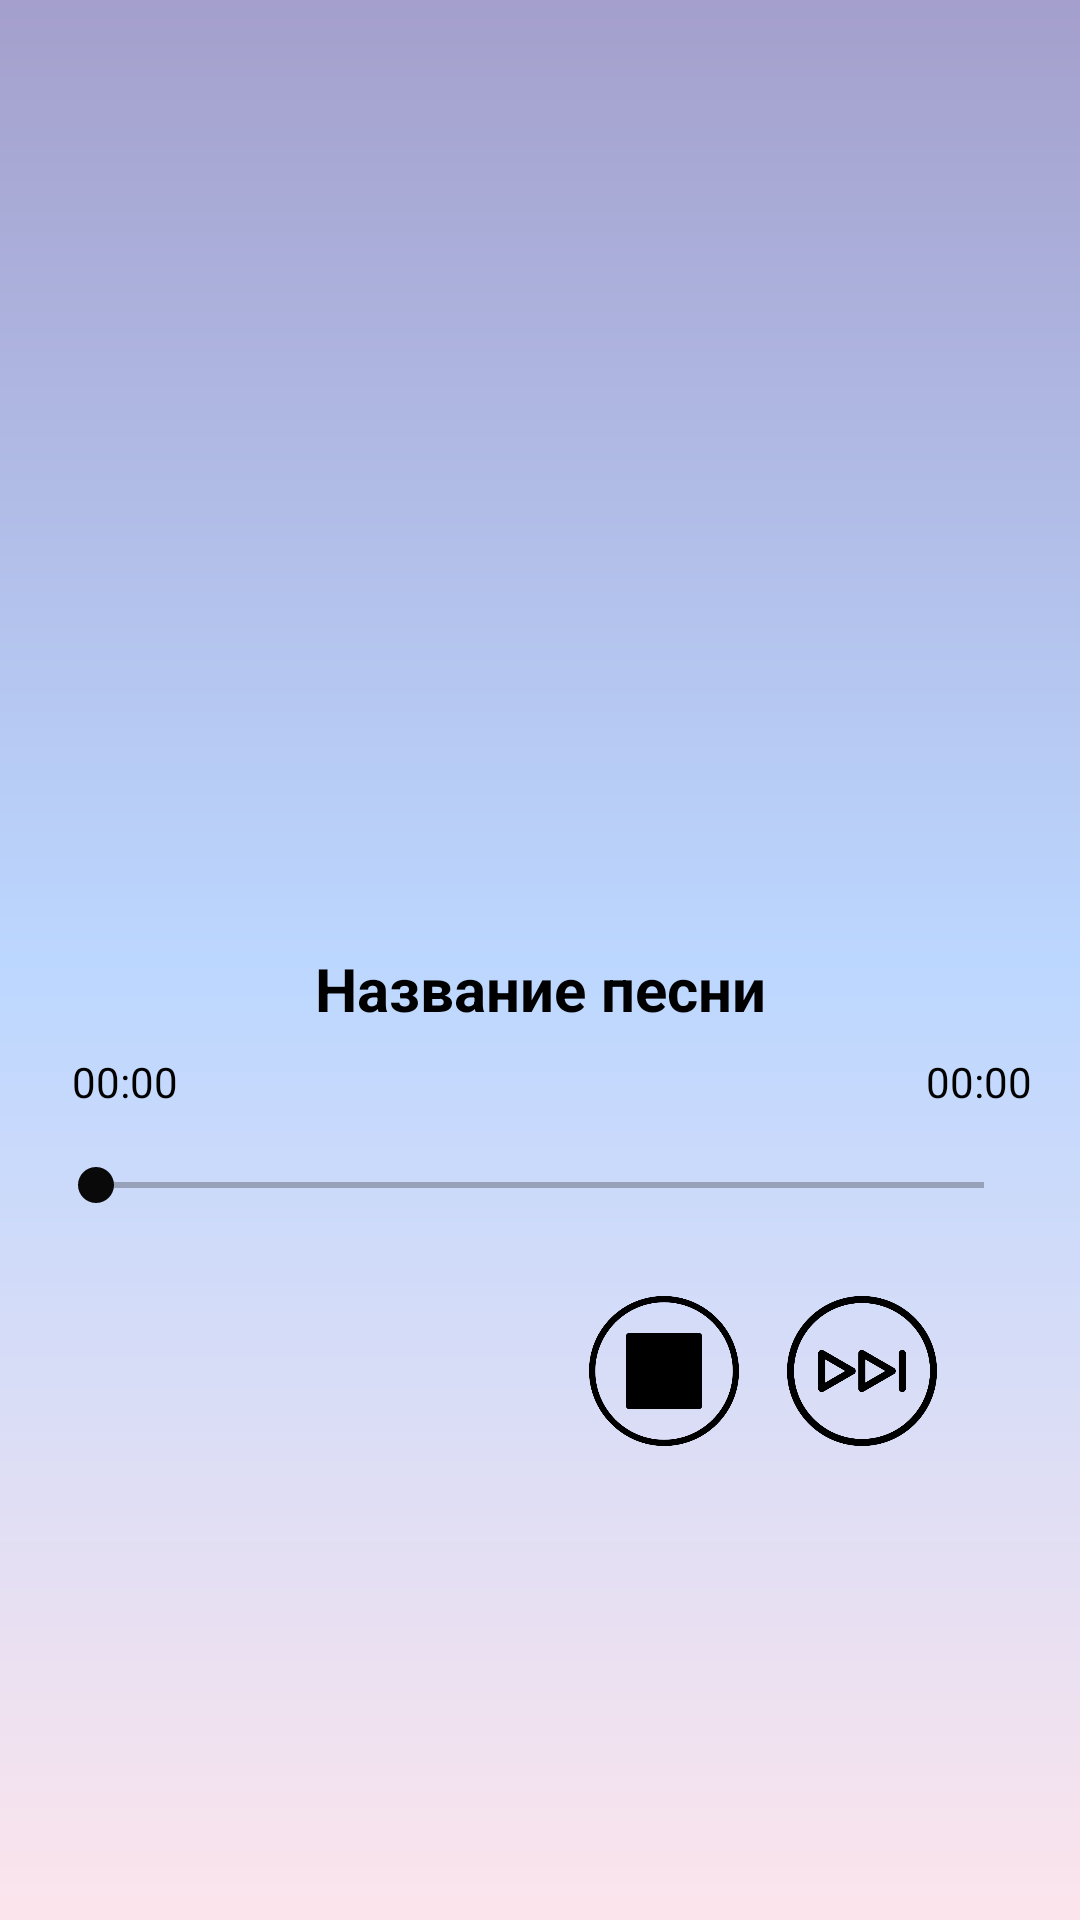

Locate icon controls on the screen. Image size 1080 x 1920, boxes as (x1, y1, x2, y2).
next: (787, 1296, 937, 1446)
stop: (589, 1296, 739, 1446)
